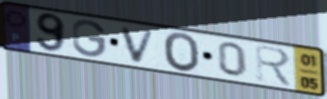0: (217, 41, 250, 79)
9: (34, 12, 69, 55)
G: (71, 19, 108, 59)
O: (162, 31, 202, 74)
R: (253, 43, 295, 89)
V: (119, 25, 158, 65)
